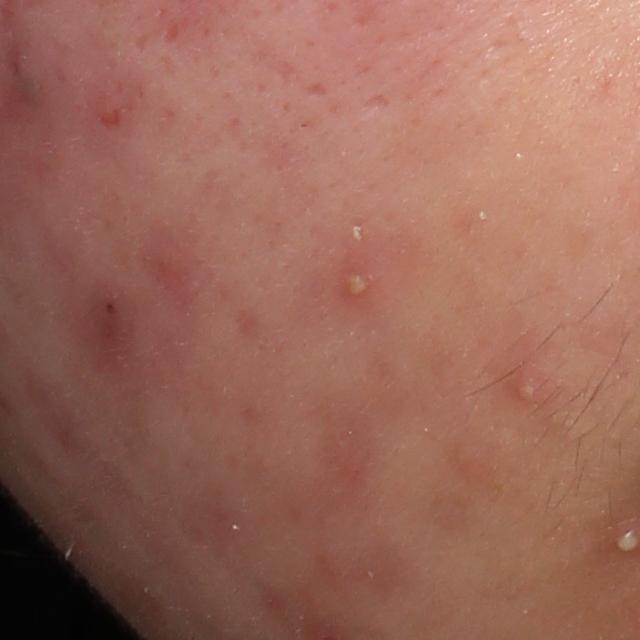atrophic_scar: (361, 93, 392, 110), (302, 84, 329, 98)
pustule: (339, 260, 378, 308)
